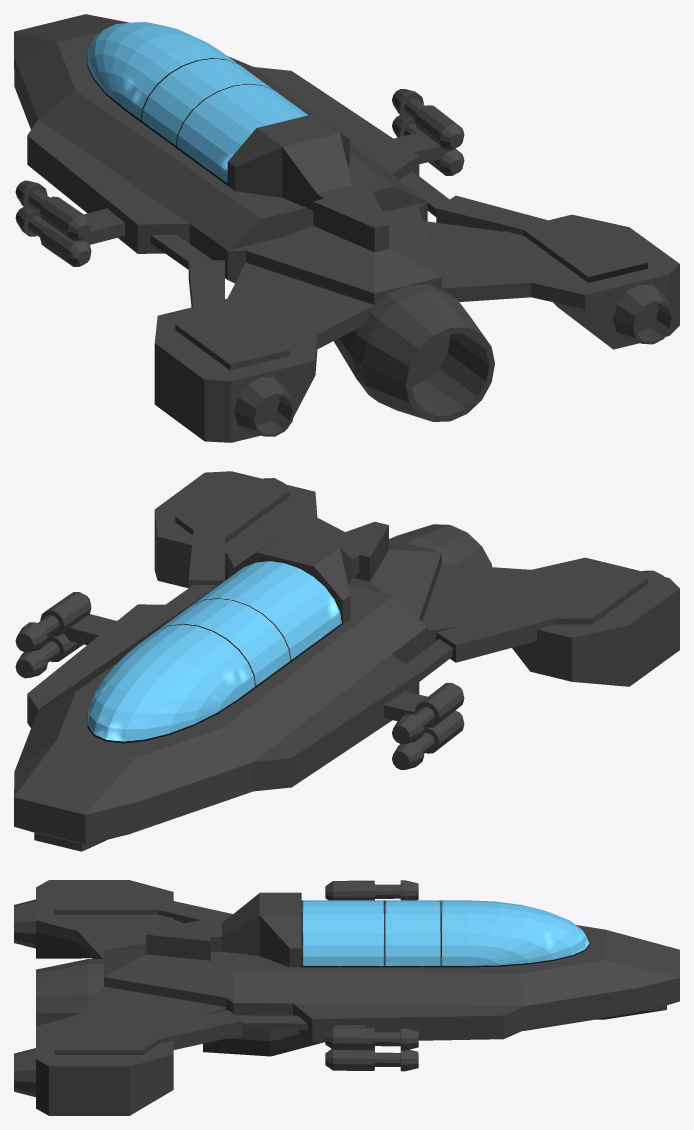
Rendered from spaceship.glb.
3 views of the same model, one above another, from view 1: azimuth 30°, elevation 25°; view 2: azimuth 150°, elevation 25°; view 3: azimuth 270°, elevation 25° (orthographic). The views are drawn at different scales.
Parts seen in each view (by area): view 1: CockPit_low static; view 2: CockPit_low static; view 3: CockPit_low static.
Boxes of the visible parts, x1,y1,x2,y2 form: CockPit_low static: (14, 14, 679, 442); CockPit_low static: (14, 471, 679, 851); CockPit_low static: (14, 880, 679, 1115).
Size of the model in its own units: 1.32 by 0.5102 by 2.
Materials: 1 (1 with a texture image).
